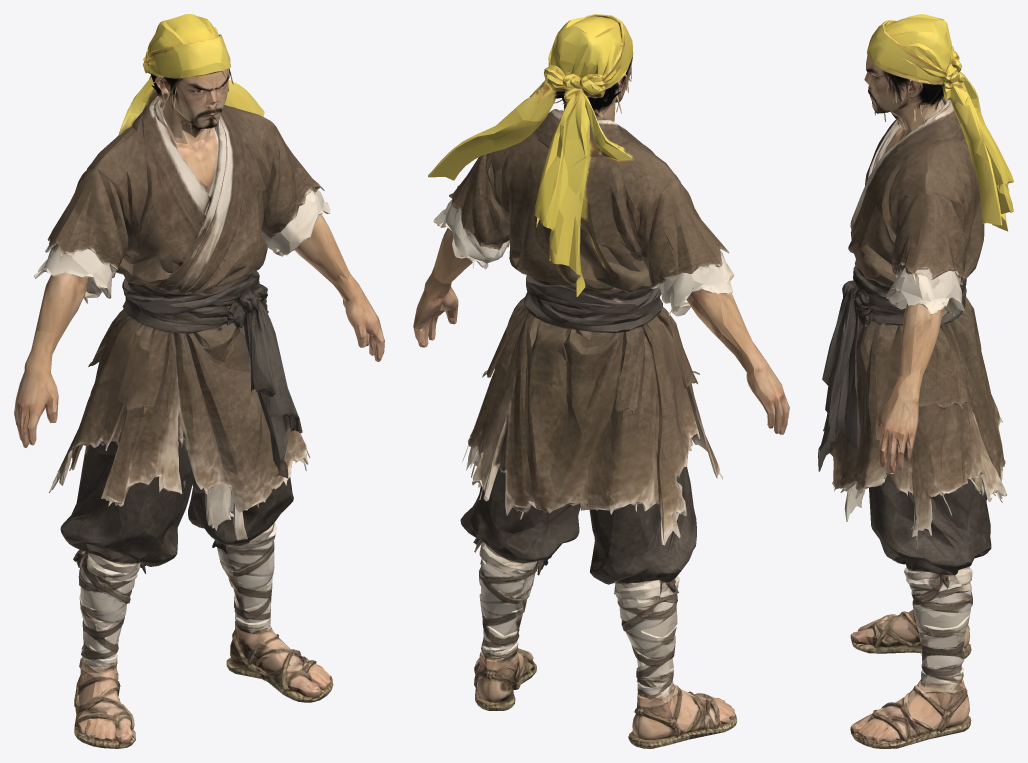
The model's file is glb.glb.
3 renders of one model, left to right at view 1: azimuth 30°, elevation 25°; view 2: azimuth 150°, elevation 25°; view 3: azimuth 270°, elevation 25°, orthographic. The views are drawn at different scales.
Size of the model in its own units: 1.06 by 1.9 by 0.5017.
1 material, 1 textured.
